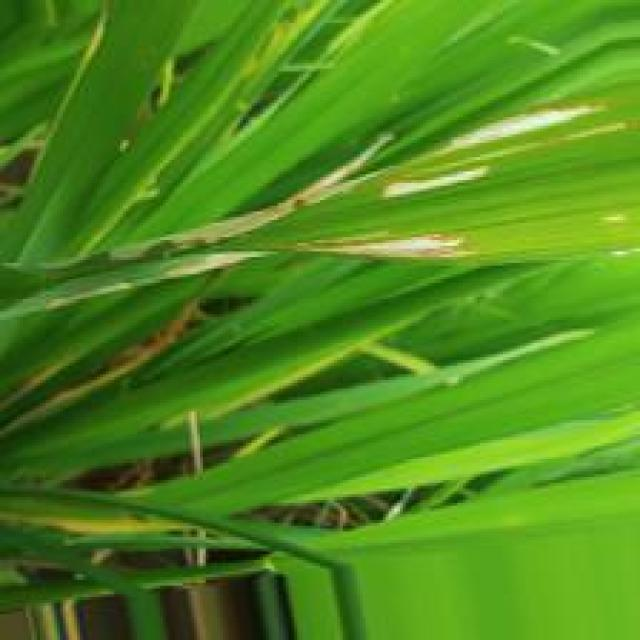Rice_Hispa: (92, 183, 375, 257), (437, 110, 590, 157), (282, 232, 474, 254), (380, 167, 483, 203)
